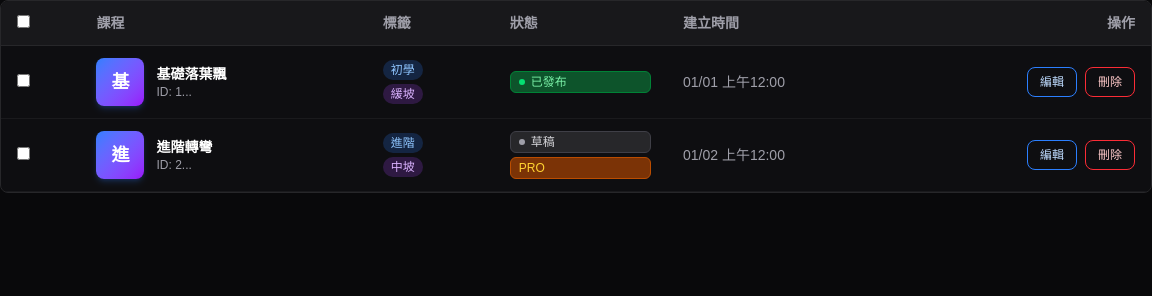
Scenario: LessonManageTable - Batch Operations › 全選功能 › 應該可以取消全選
Step 1. Click the checkbox next to "課程" → (24,22), box [17, 15, 30, 28]
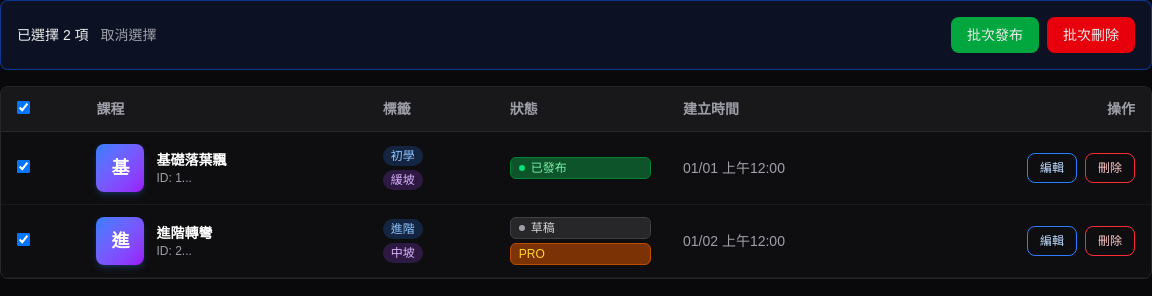
Step 2. Click the checkbox next to "課程" → (24,108), box [17, 101, 30, 114]
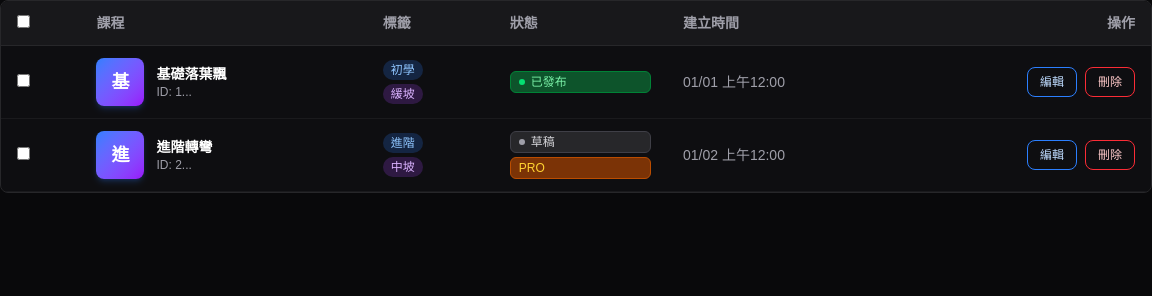
Check: the checkbox in the row of "基礎落葉飄" is not checked, box [17, 74, 30, 87]
Check: the checkbox in the row of "進階轉彎" is not checked, box [17, 147, 30, 160]
